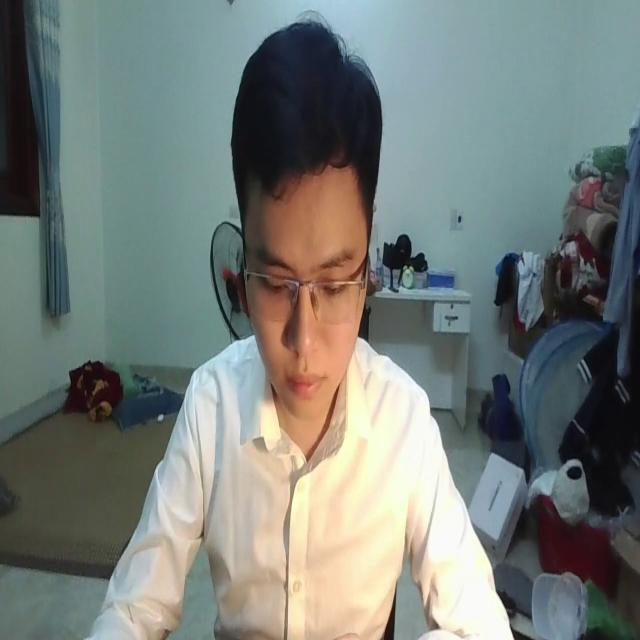student: (86, 28, 515, 640)
